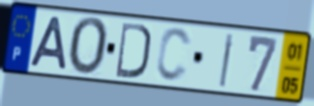7: (246, 33, 280, 95)
A: (27, 15, 69, 72)
C: (154, 25, 193, 85)
D: (114, 20, 152, 81)
I: (217, 31, 237, 90)
O: (67, 15, 111, 78)
